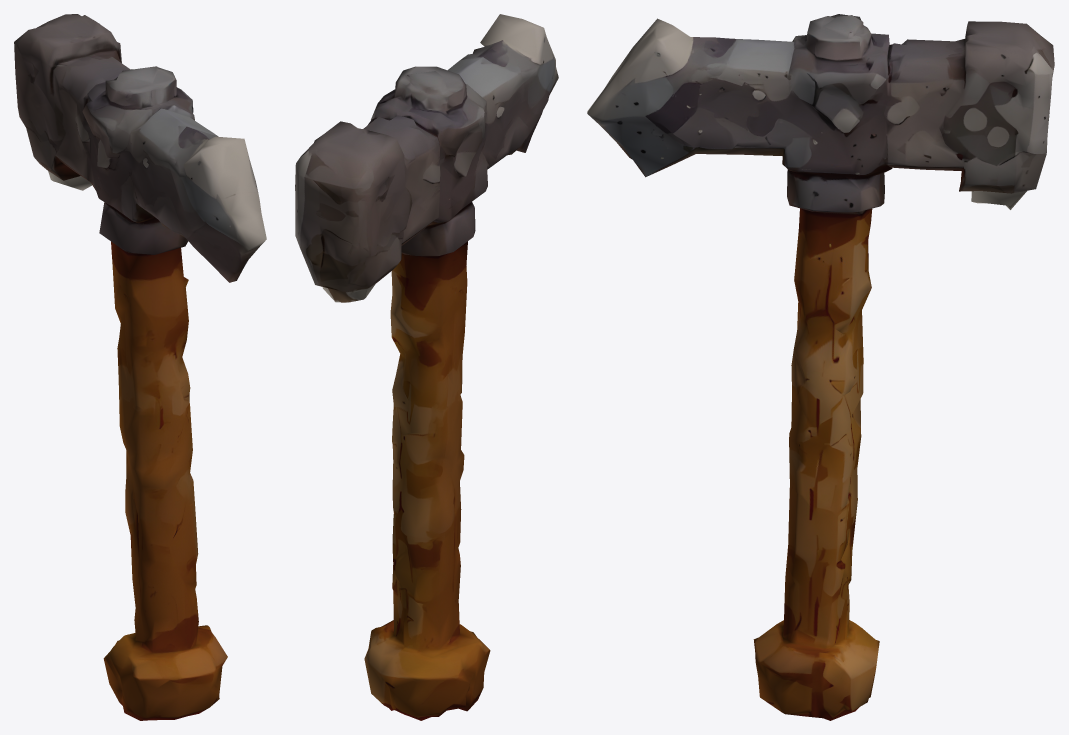
File: item_pickaxe.glb
3 views of the same model, side by side, from view 1: azimuth 30°, elevation 25°; view 2: azimuth 150°, elevation 25°; view 3: azimuth 270°, elevation 25° (orthographic). The views are drawn at different scales.
Parts seen in each view (by area): view 1: tripo_node_45d03f41-fecd-45e5-a0e1-4db2795d376c; view 2: tripo_node_45d03f41-fecd-45e5-a0e1-4db2795d376c; view 3: tripo_node_45d03f41-fecd-45e5-a0e1-4db2795d376c.
Boxes of the visible parts, x1=… form: tripo_node_45d03f41-fecd-45e5-a0e1-4db2795d376c: x1=14, y1=14, x2=266, y2=720; tripo_node_45d03f41-fecd-45e5-a0e1-4db2795d376c: x1=295, y1=14, x2=558, y2=720; tripo_node_45d03f41-fecd-45e5-a0e1-4db2795d376c: x1=587, y1=14, x2=1054, y2=720.
Bounding box in the file's own units: 0.1782 × 1 × 0.6276.
Materials: 1 (1 with a texture image).
